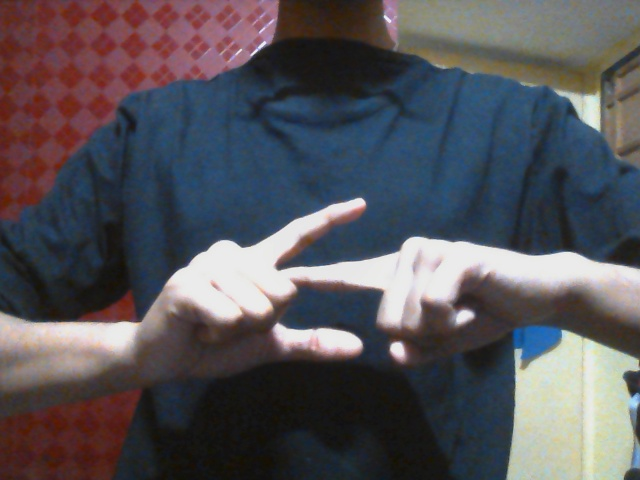E: (162, 194, 512, 374)
